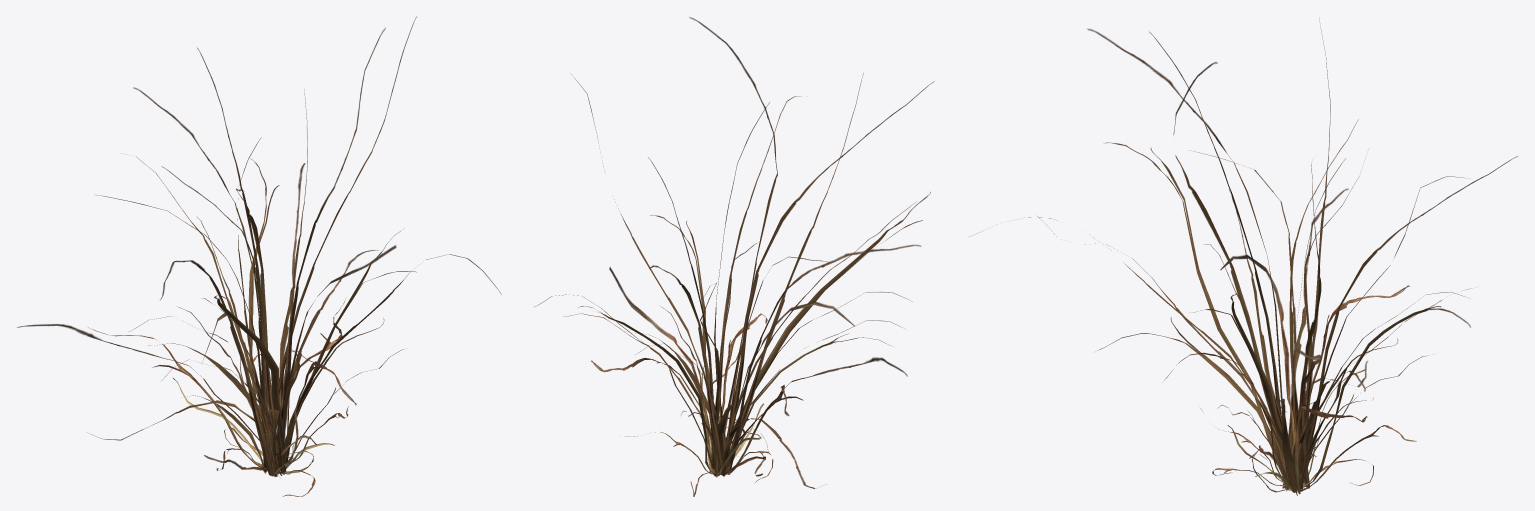
The model's file is grass_tuft_b.glb.
The picture shows the model from 3 angles, left to right: view 1: azimuth 30°, elevation 25°; view 2: azimuth 150°, elevation 25°; view 3: azimuth 270°, elevation 25°; orthographic projection. The views are drawn at different scales.
Visible parts, largest first — view 1: grass_medium_02_e_w; view 2: grass_medium_02_e_w; view 3: grass_medium_02_e_w.
Boxes of the visible parts, x1,y1,x2,y2 form: grass_medium_02_e_w: (17, 16, 501, 496); grass_medium_02_e_w: (534, 17, 934, 496); grass_medium_02_e_w: (970, 18, 1517, 495).
Size of the model in its own units: 0.4409 by 0.5 by 0.5372.
1 material, 1 textured.
